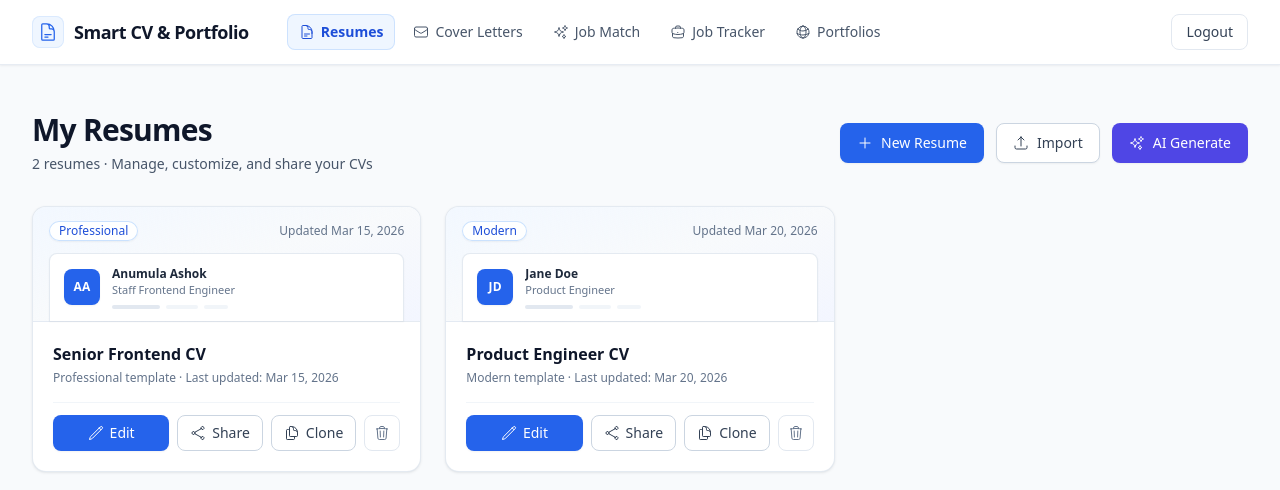
Test: UI Polish: Auth, Shared Header Container, and Resume Dashboard › Dashboard Loading Skeleton, Empty State & Resume Cards › renders resume cards with preview initials, template name, last updated, and confirm-based delete
Expected: the number of elements with test id "resume-card" is 2, x1=32 y1=206 x2=421 y2=472; x1=445 y1=206 x2=835 y2=472
Expected: the text with test id "resumes-count-subtitle" shows "2 resumes", x1=32 y1=154 x2=373 y2=173
What coordinates should you click on to do the following:
click the button named "delete resume" below "Senior Frontend CV"
I would click on:
 (382, 432)
Its box is x1=364 y1=414 x2=400 y2=450.
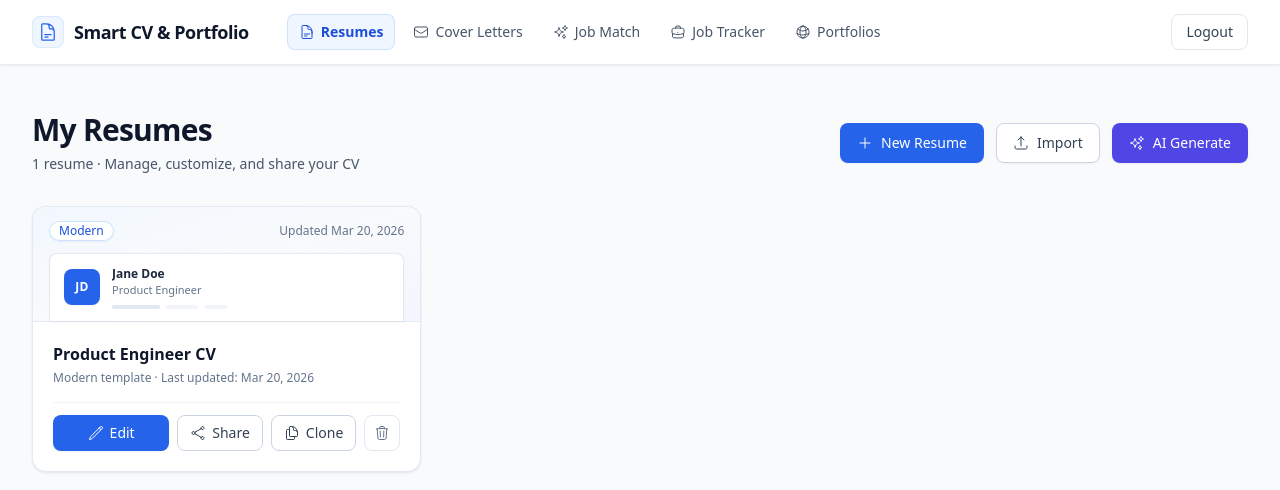
Expected: the number of elements with test id "resume-card" is 1, x1=32 y1=206 x2=421 y2=472
Expected: the text with test id "resumes-count-subtitle" reads "1 resume · Manage, customize, and share your CV", x1=32 y1=154 x2=360 y2=173
